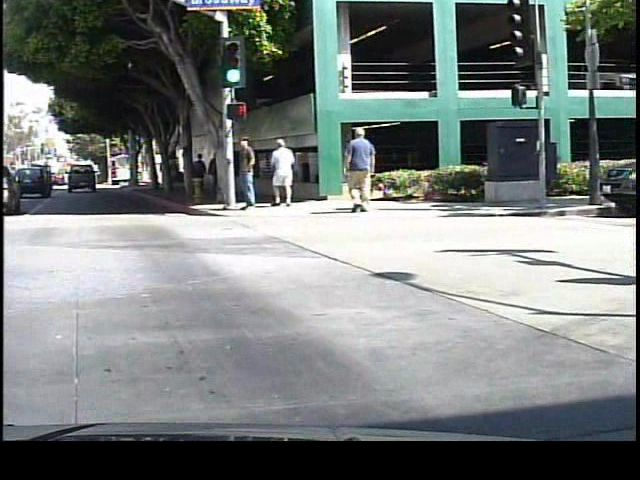person: (342, 123, 383, 214), (232, 132, 262, 217), (267, 135, 297, 209), (191, 150, 207, 198)
